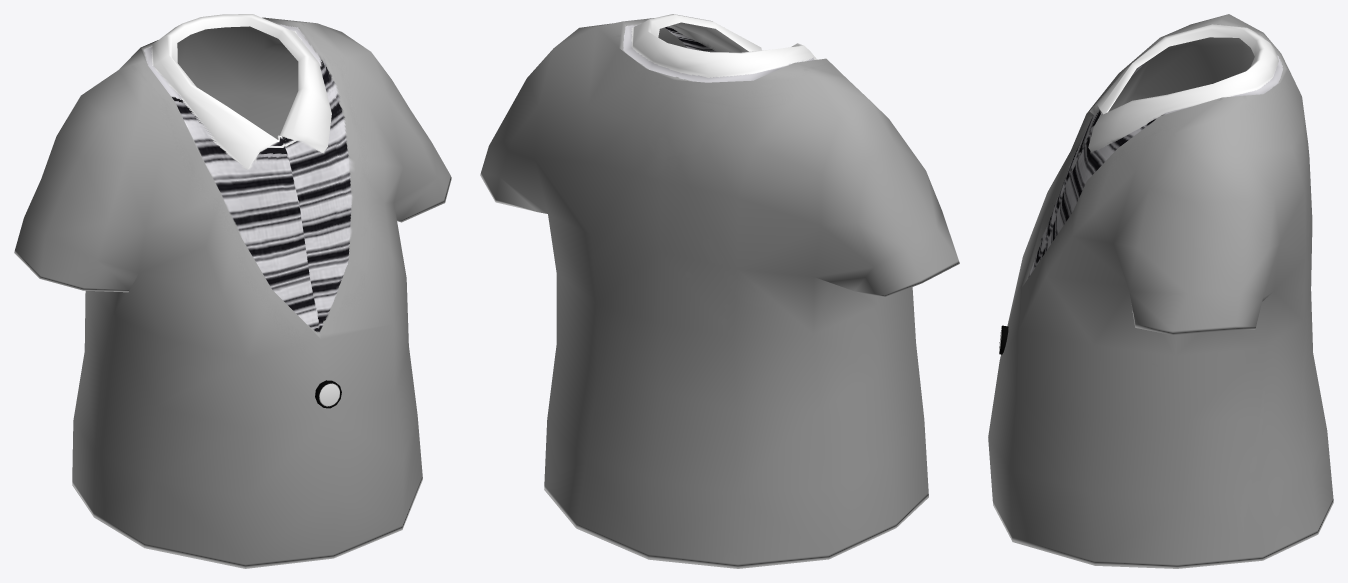
File: AF_M_Jacket_15.fbx
The picture shows the model from 3 angles, left to right: view 1: azimuth 30°, elevation 25°; view 2: azimuth 150°, elevation 25°; view 3: azimuth 270°, elevation 25°; orthographic projection. The views are drawn at different scales.
Parts seen in each view (by area): view 1: AF_M_Jacket_15; view 2: AF_M_Jacket_15; view 3: AF_M_Jacket_15.
Part boxes in pixels (x1=…): AF_M_Jacket_15: x1=14, y1=14, x2=451, y2=568; AF_M_Jacket_15: x1=480, y1=14, x2=959, y2=568; AF_M_Jacket_15: x1=988, y1=14, x2=1333, y2=568.
Size of the model in its own units: 458 by 473 by 324.
